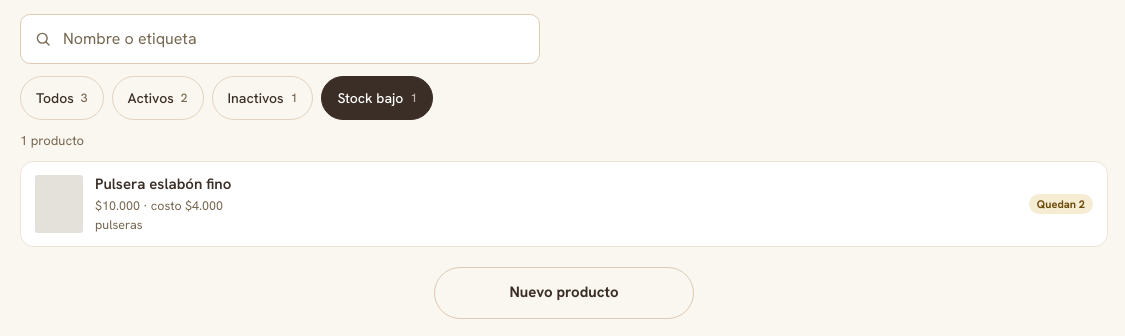
Test case: ProductosPage › buscar mantiene el filtro en la URL
This screenshot has width=1125, height=336.
Expected: the text "1 producto" is shown, [20,132,84,149]
Type "pulsera" into the search field named "Buscar productos" at {"x": 280, "y": 39}, box [20,14,540,64]
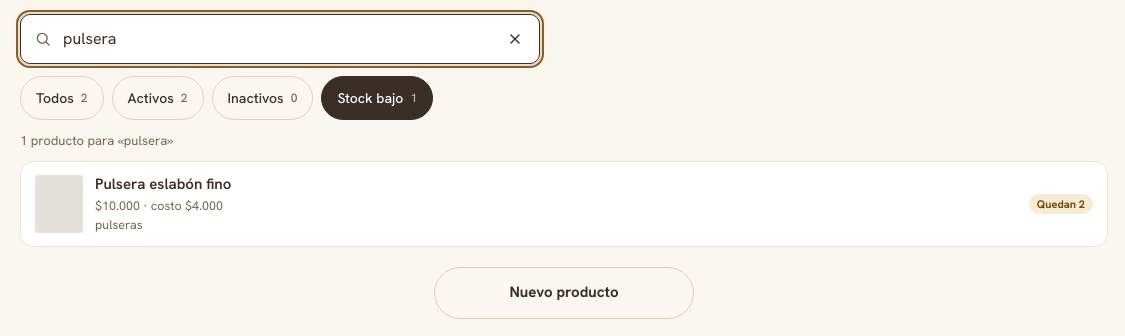
Now the text "1 producto para «pulsera»" is shown, box [20,132,173,149]
